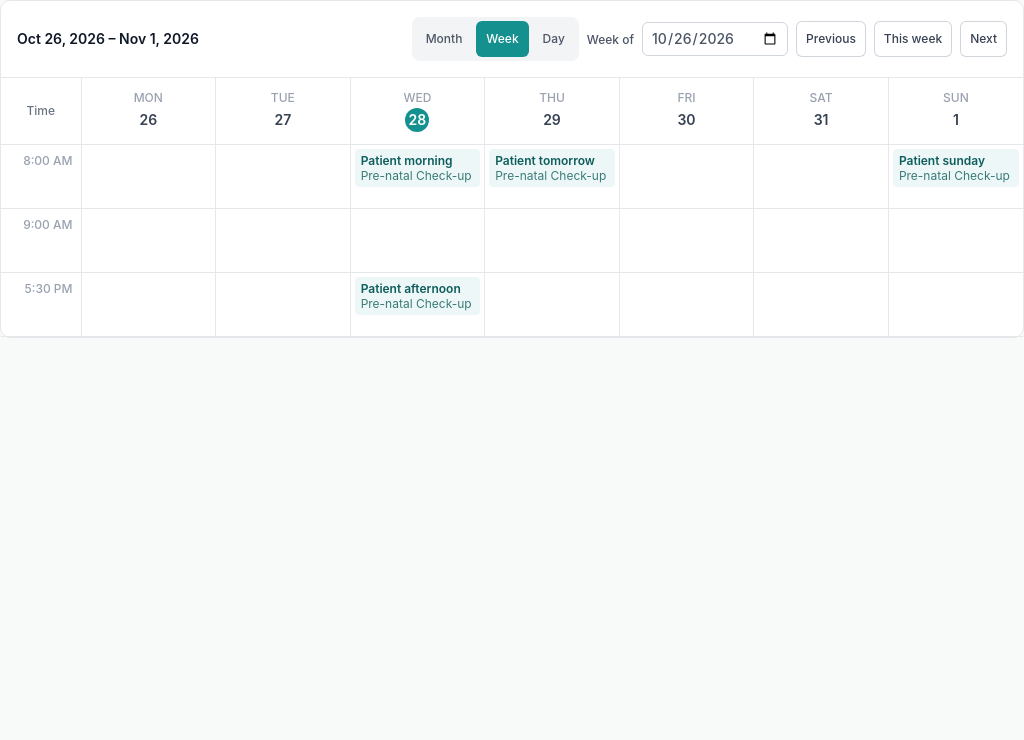
Scenario: appointment calendar views › shows a complete Monday-to-Sunday month grid and opens adjacent-month dates
The image size is (1024, 740).
Step 1. Click the button "Month" → point(444, 39), box [416,21,472,57]
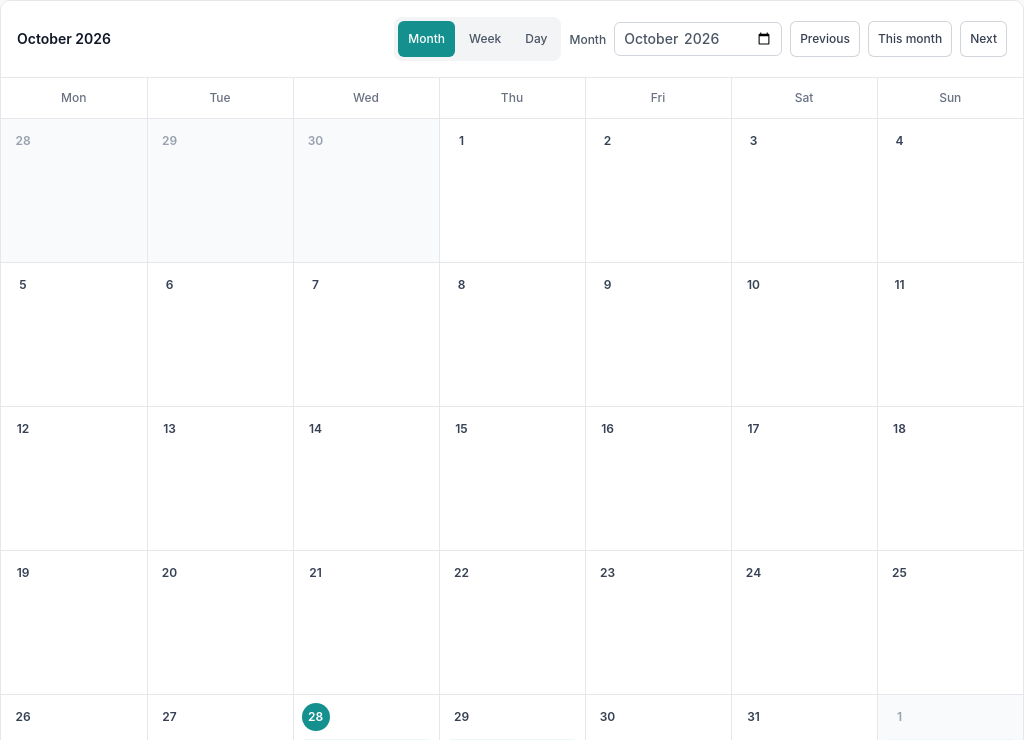
Check: the heading "October 2026" is shown, box [17,29,111,49]
Step 2. Click the 2nd button "1" → point(900, 717), box [886,703,914,731]
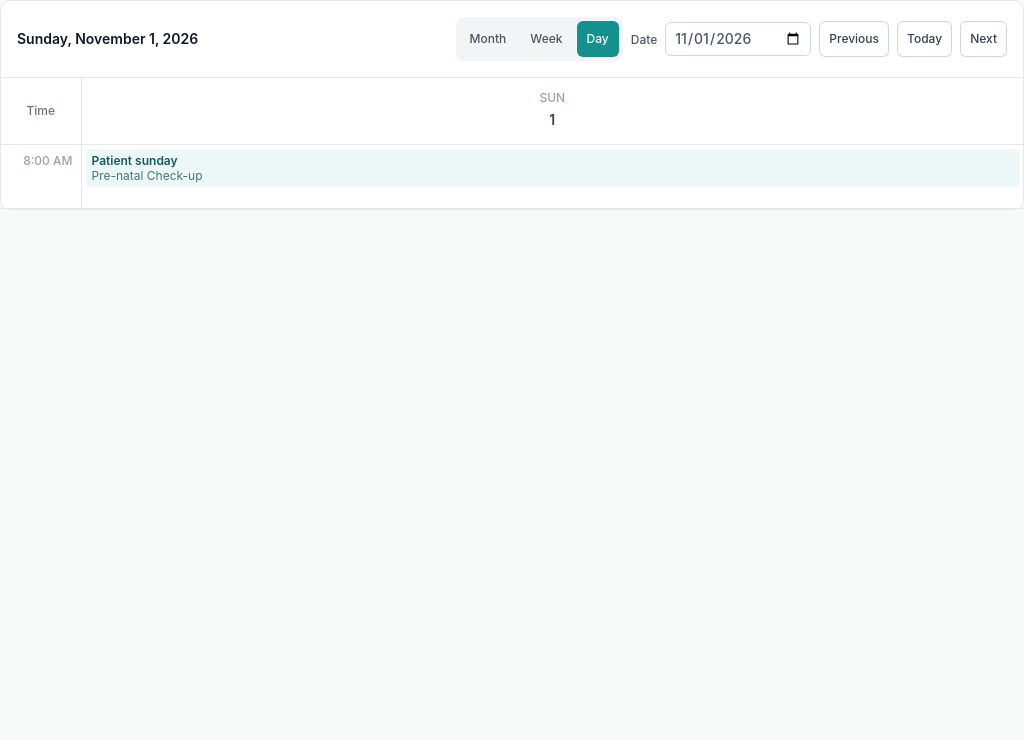
Check: the element showing "Time Sun 1 8:00 AM Patient sunday Pre-natal Check-up" is shown, box [1,78,1023,209]
Check: the date field labelled "Date" holds "2026-11-01", box [665,22,811,56]
